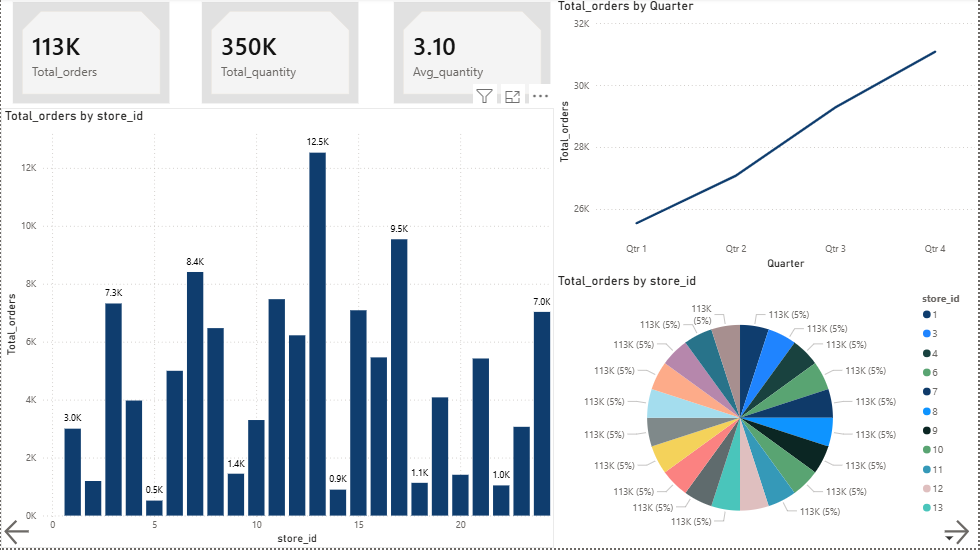

This screenshot's page, from the dashboard's own definition file:
{"tool":"powerbi","page":{"name":"Order Overview","canvas":[1280,720],"ordinal":2},"visuals":[{"type":"cardVisual","fields":{"Data":["Customers.Total_orders"]},"box":[10.2,0,215.1,143.4],"z":0},{"type":"cardVisual","fields":{"Data":["Customers.Total_quantity"]},"box":[257.6,0,215.1,143.4],"z":1000},{"type":"cardVisual","fields":{"Data":["Customers.Avg_quantity"]},"box":[509.3,0,215.1,143.4],"z":2000},{"type":"lineChart","fields":{"Y":["Customers.Total_orders"],"Category":["Transaction.transaction_date.Variation.Date Hierarchy.Quarter"]},"box":[724.4,0,556.1,360],"z":3000},{"type":"clusteredColumnChart","fields":{"Category":["Transaction.store_id"],"Y":["Customers.Total_orders"]},"box":[0,143.4,724.4,576.6],"z":4000},{"type":"pieChart","fields":{"Category":["Returns.store_id"],"Y":["Customers.Total_orders"]},"box":[724,360,556,360],"z":5000},{"type":"actionButton","box":[0,677.6,45.4,42.4],"z":6000},{"type":"actionButton","box":[1229.3,677.6,51.2,42.4],"z":7000}]}

Visuals, with their boxes in screenshot pixels (x1, y1, x2, y2), scaled from the page's 1280x720 canvas onto the 980x550 screenshot:
cardVisual - Customers.Total_orders: left=8, top=0, right=172, bottom=110
cardVisual - Customers.Total_quantity: left=197, top=0, right=362, bottom=110
cardVisual - Customers.Avg_quantity: left=390, top=0, right=555, bottom=110
lineChart - Customers.Total_orders x Transaction.transaction_date.Variation.Date Hierarchy.Quarter: left=555, top=0, right=979, bottom=275
clusteredColumnChart - Transaction.store_id x Customers.Total_orders: left=0, top=110, right=555, bottom=549
pieChart - Returns.store_id x Customers.Total_orders: left=554, top=275, right=979, bottom=549
actionButton: left=0, top=518, right=35, bottom=549
actionButton: left=941, top=518, right=979, bottom=549
